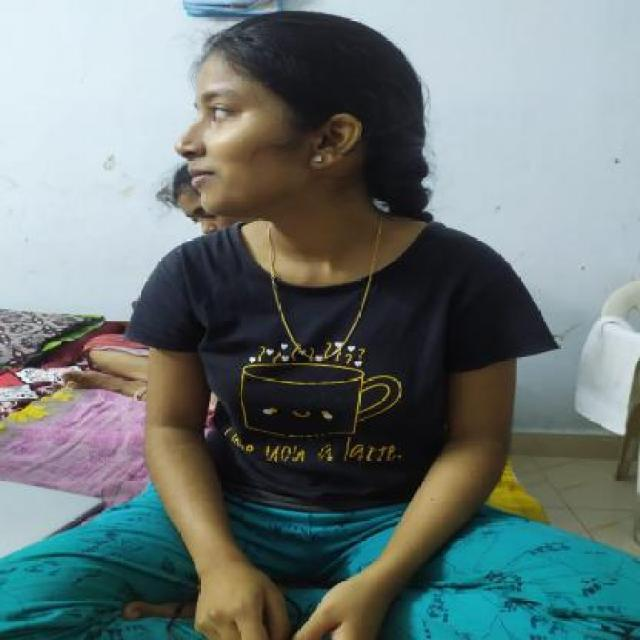cheating: (116, 12, 572, 417)
